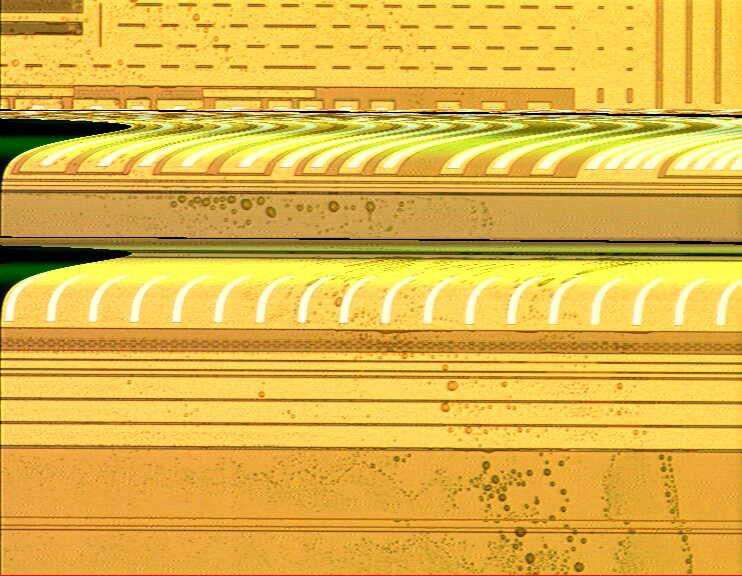PO CONTAMINATION: (1, 1, 703, 576)
